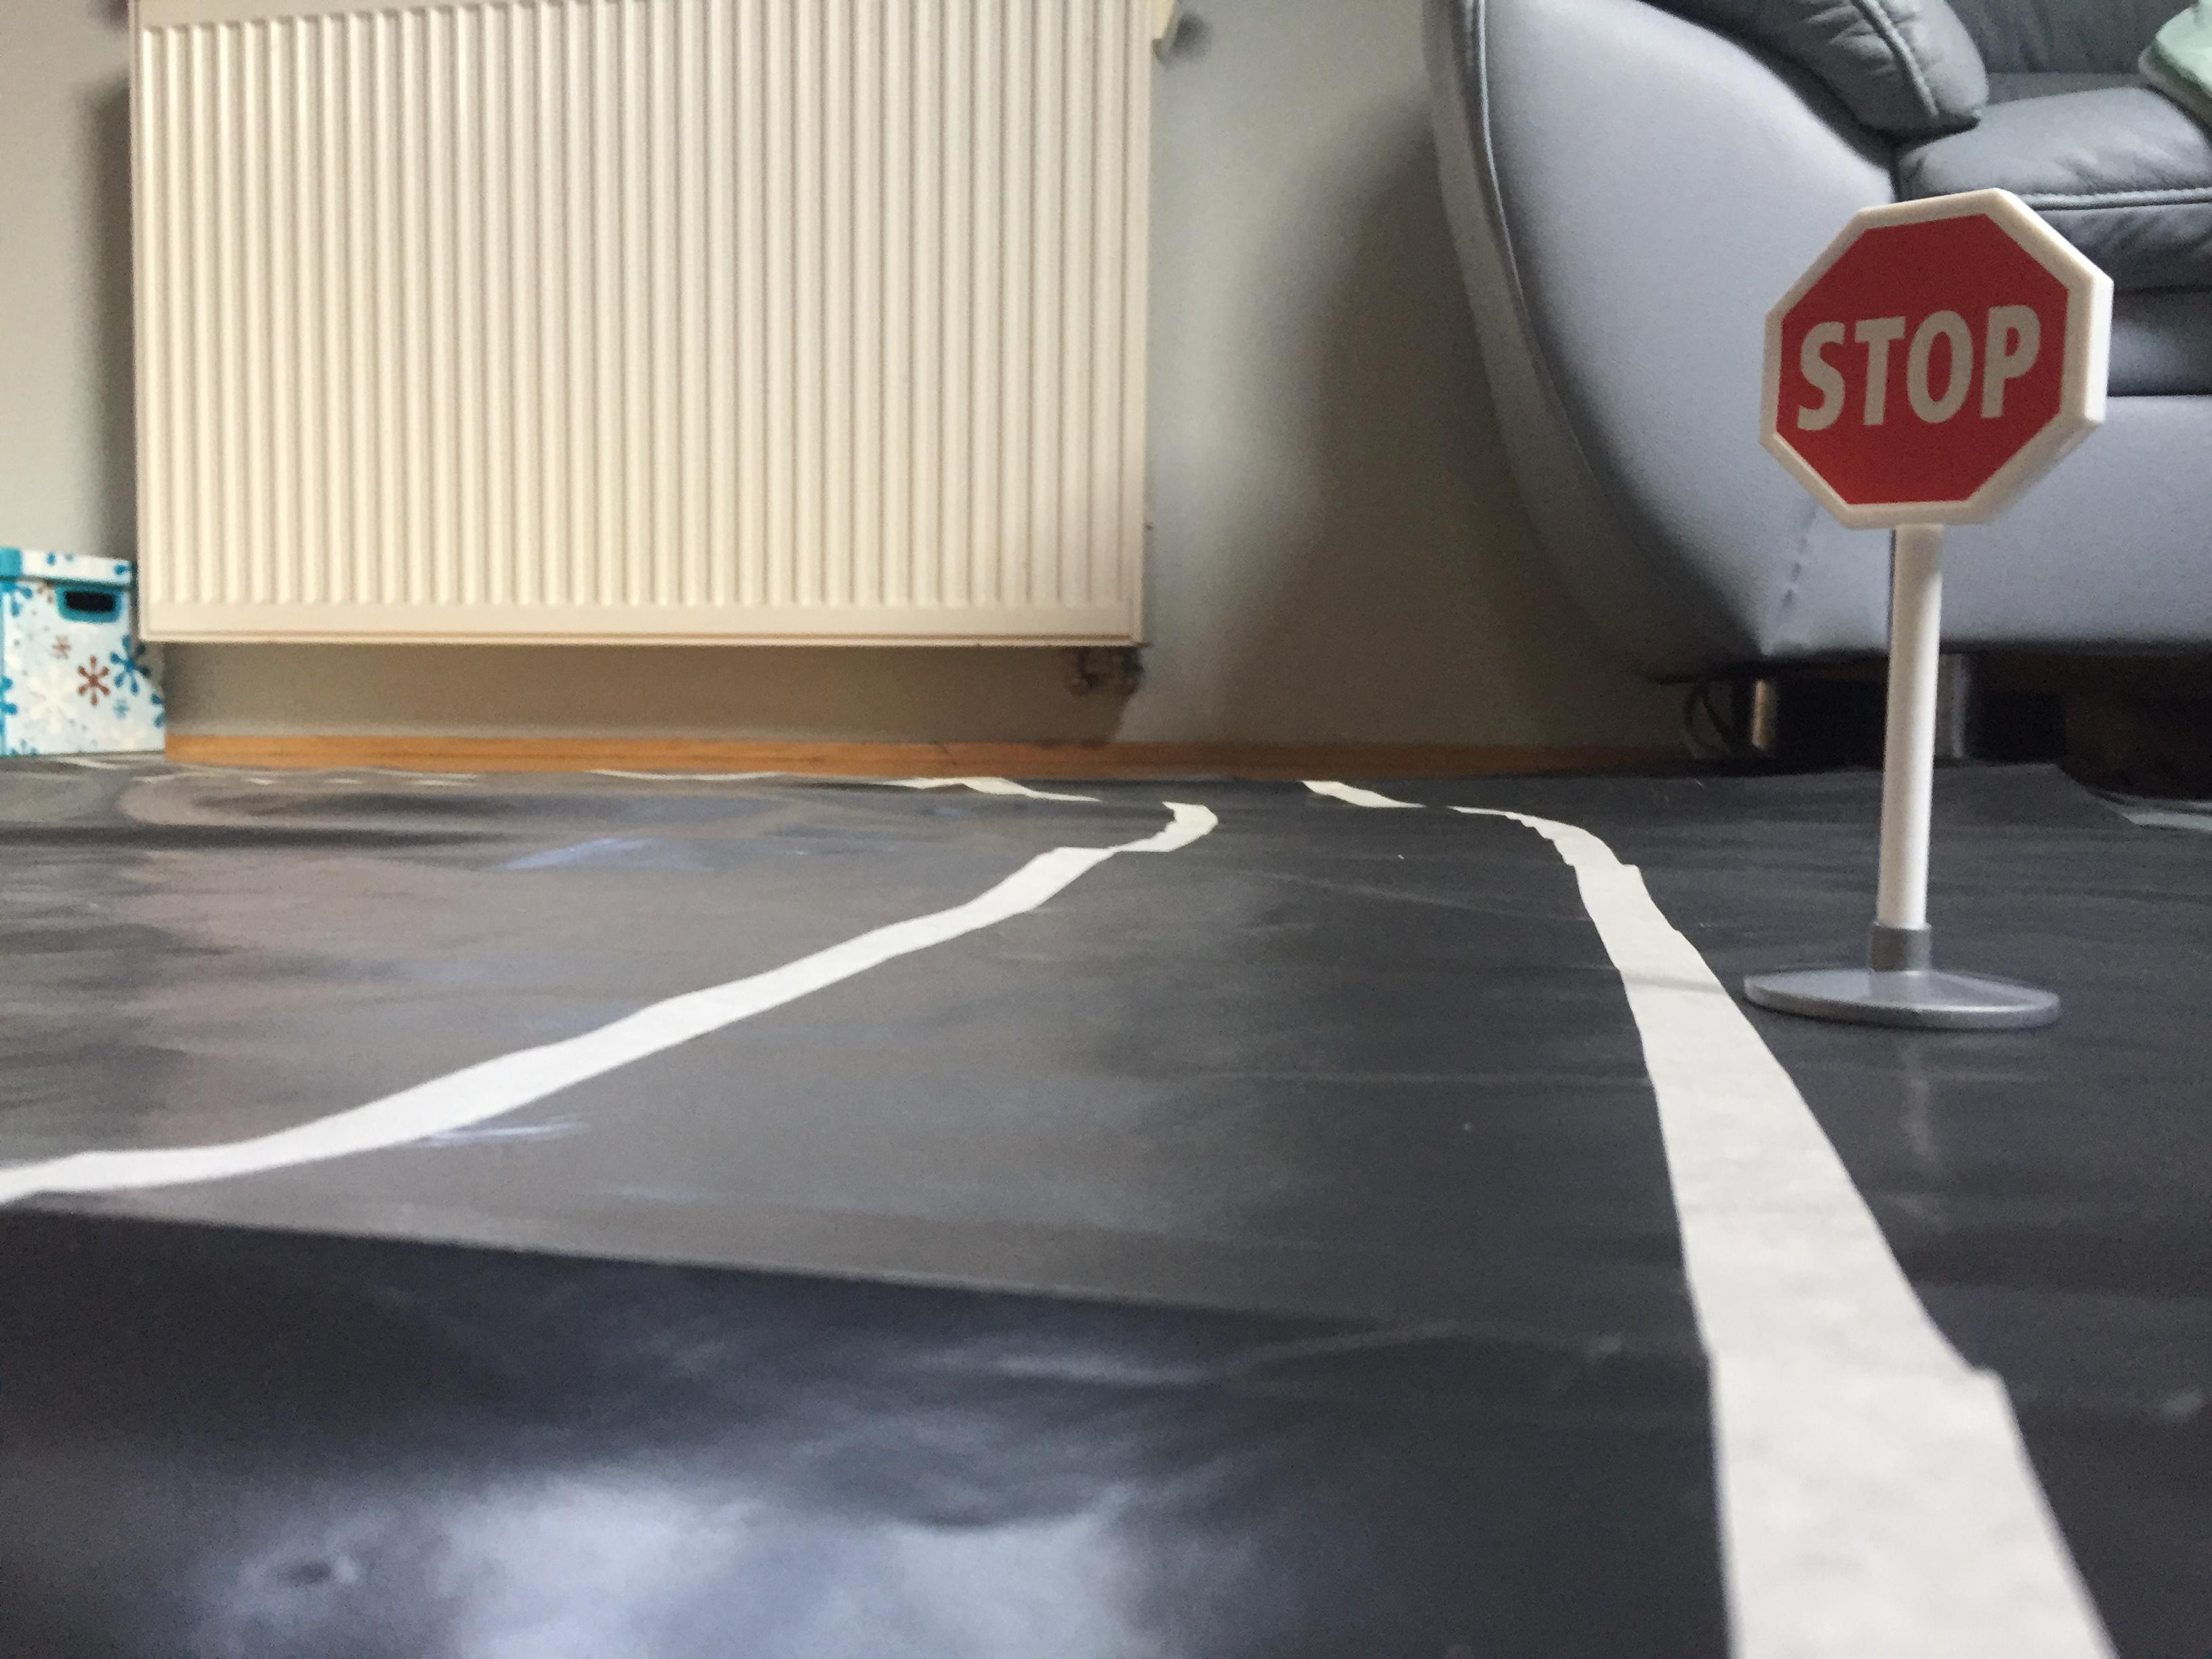stop: (1750, 183, 2125, 544)
